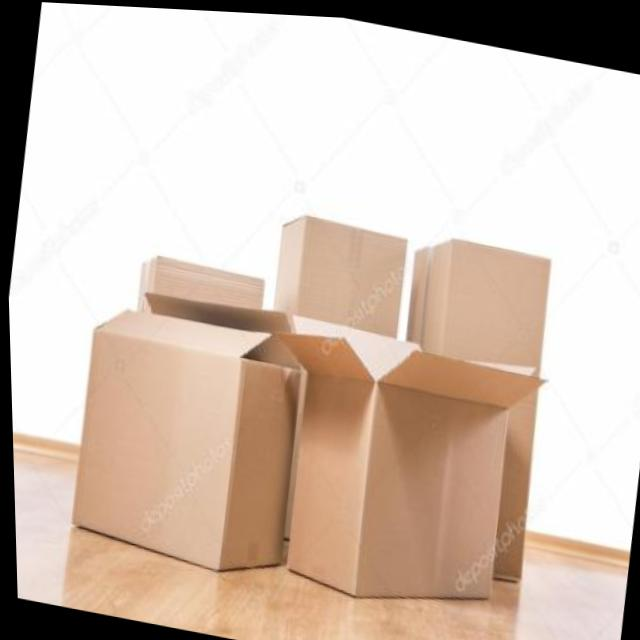box: (246, 285, 551, 622), (46, 278, 322, 605), (245, 176, 419, 347), (394, 222, 573, 378), (128, 212, 280, 332)
